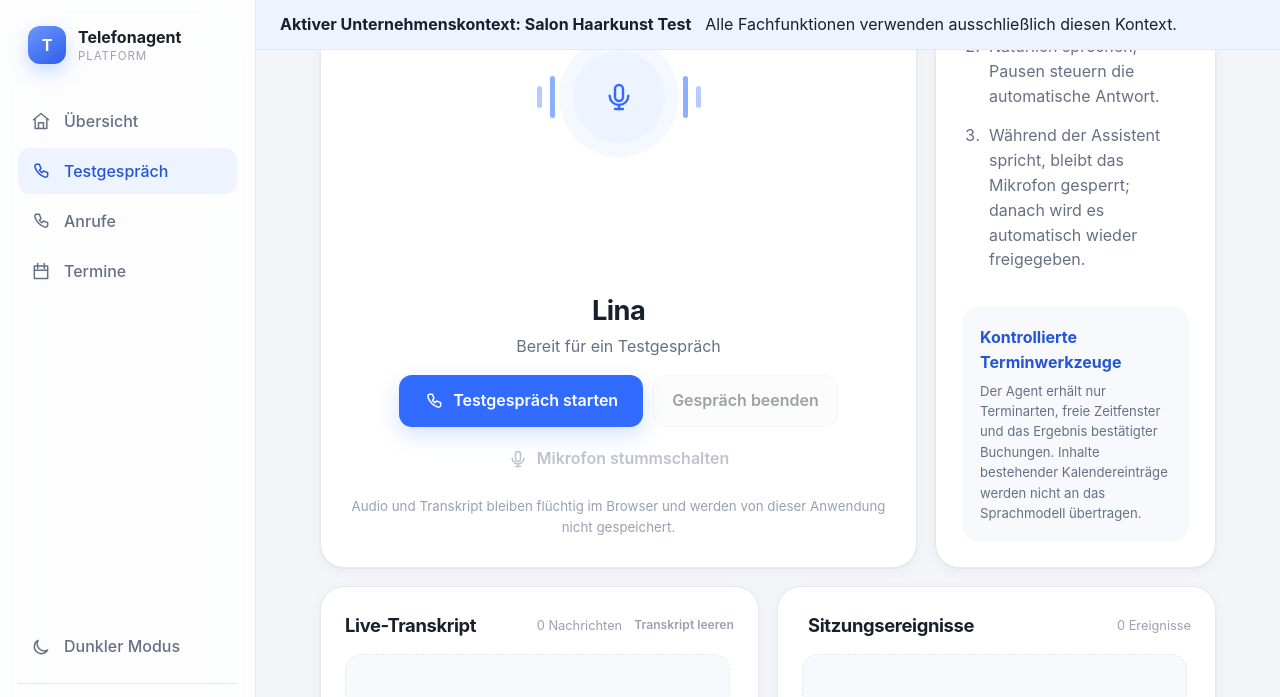
Test: Realtime browser voice flow › erklärt den Mikrofonfehler NotFoundError
This screenshot has width=1280, height=697.
(page scrolled)
Click the button "Testgespräch starten" at (521, 401), box [399,375,643,427]
(page scrolled)
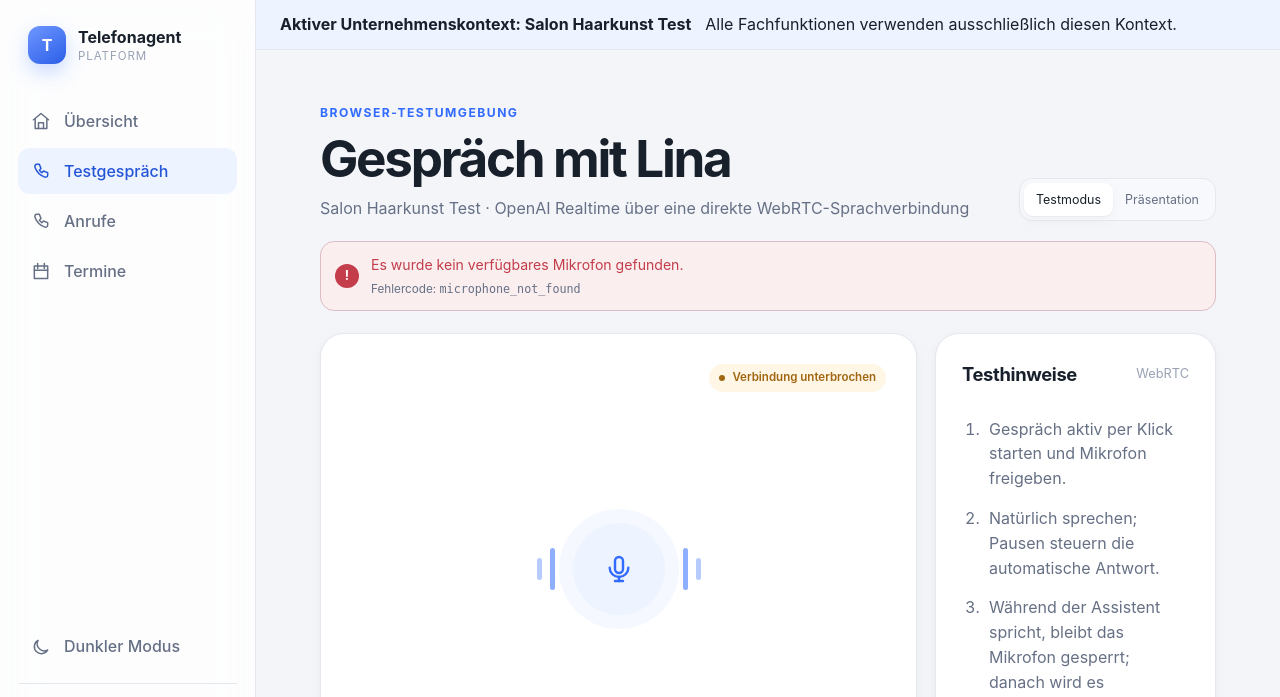
Now the message shows "kein verfügbares Mikrofon", box [371,256,684,273]
